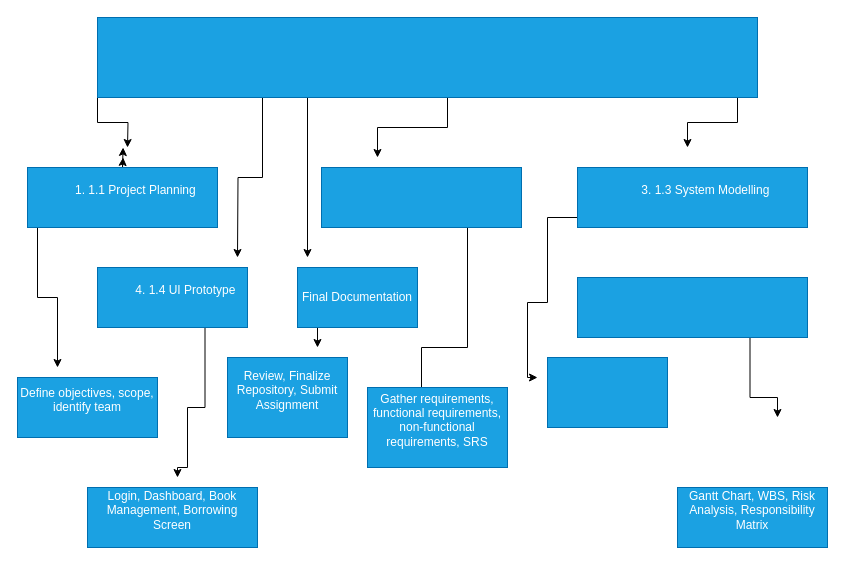
This 845x578 diagram has some shape labels left out. The box of each missing label's shape, as (x1, y1, x2, y2) in pixels:
1.0 University Library Management System: (96, 16, 758, 98)
1.2 Requirements Analysis: (320, 166, 522, 228)
1.5 Project Managemen: (576, 276, 808, 338)
Use Case, Class Diagram, Activity Diagram: (546, 356, 668, 428)
